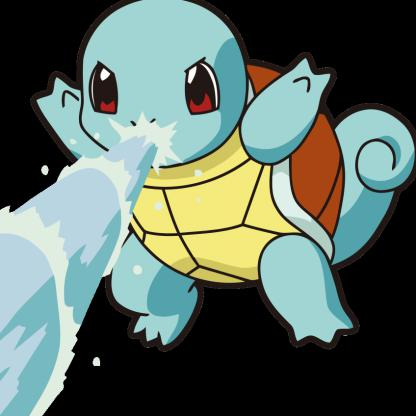Squirtle: (1, 11, 416, 363)
